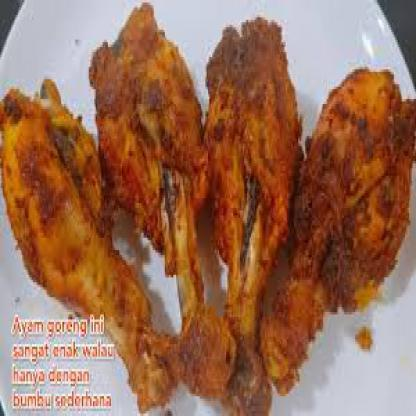ayam_goreng: (0, 79, 189, 414), (90, 0, 234, 399), (264, 62, 415, 391), (207, 15, 301, 413)
